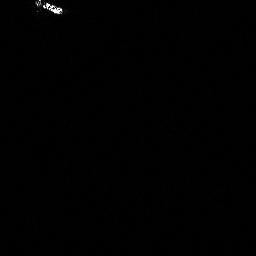ship: (33, 1, 65, 16)
